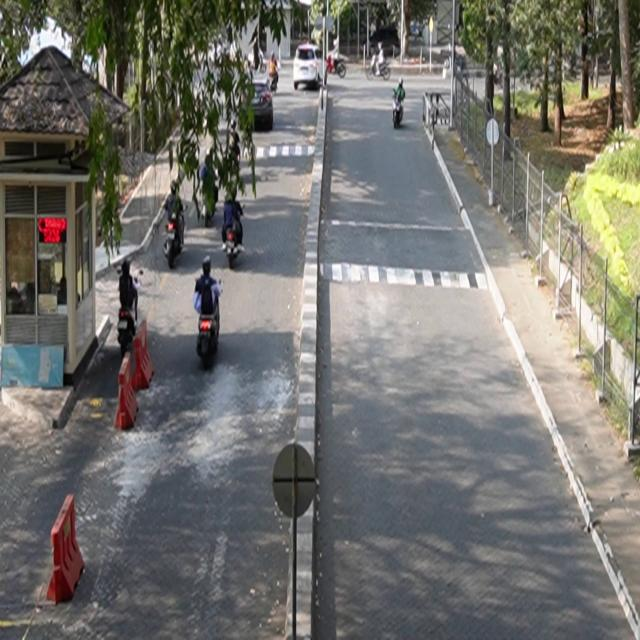car: (242, 80, 275, 132), (294, 44, 329, 91)
